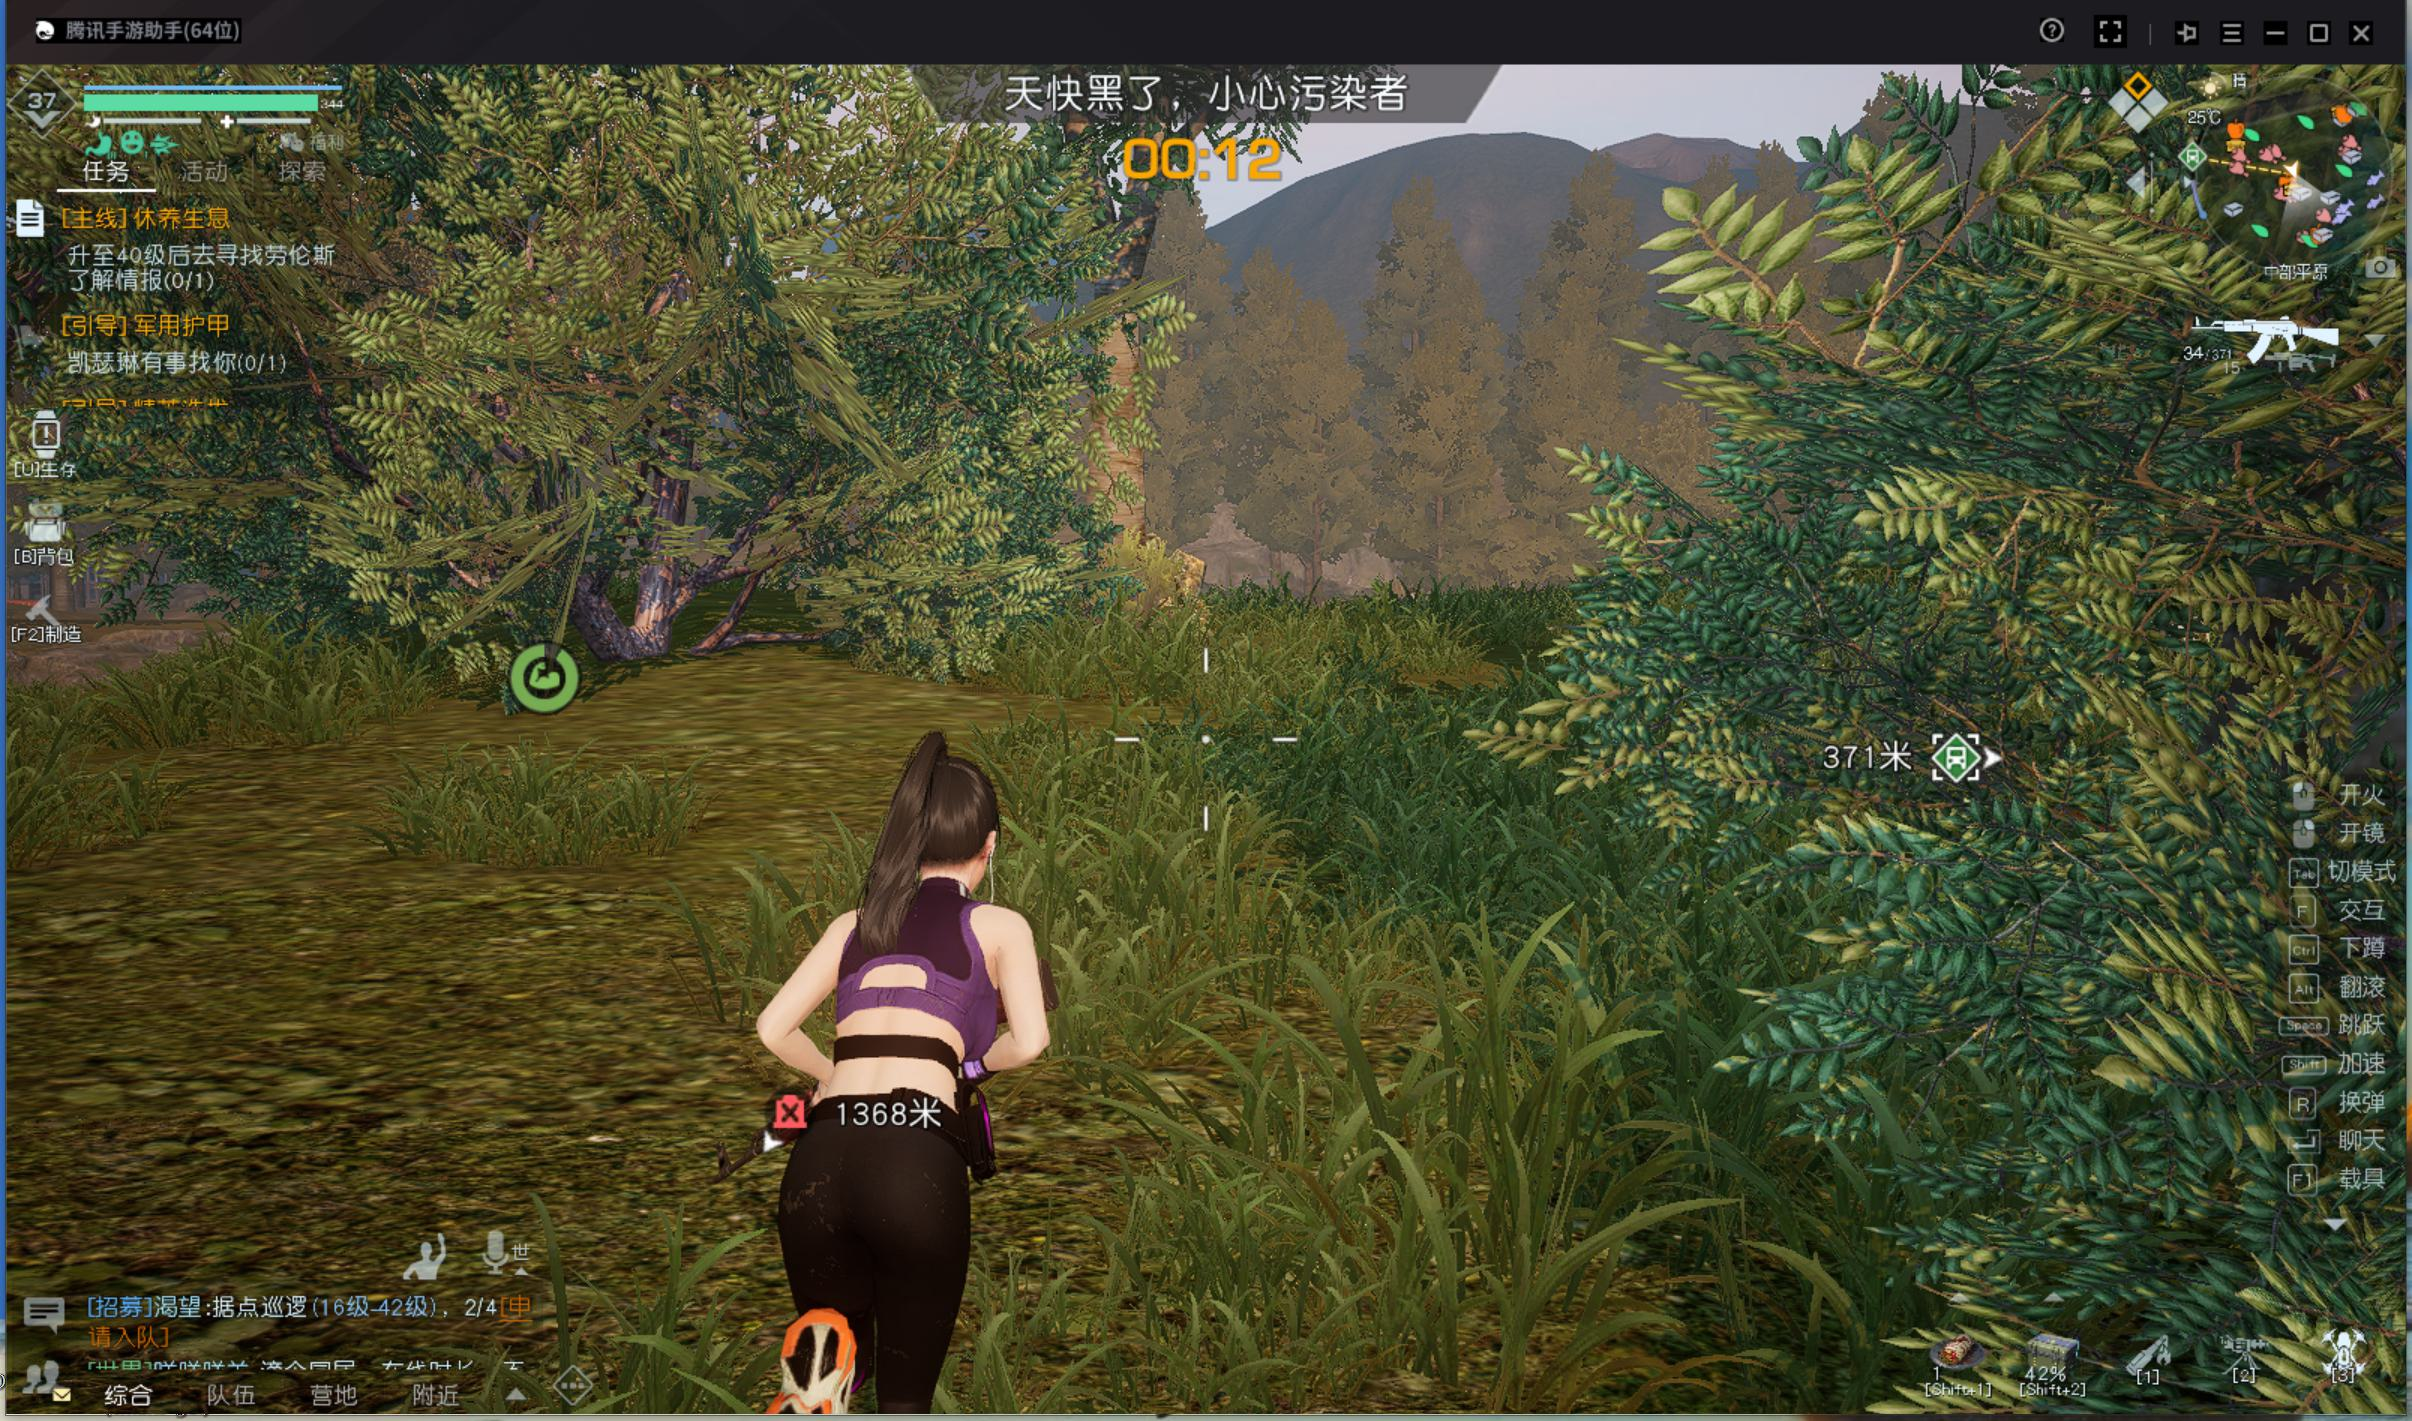tree: (1074, 269, 1164, 611)
